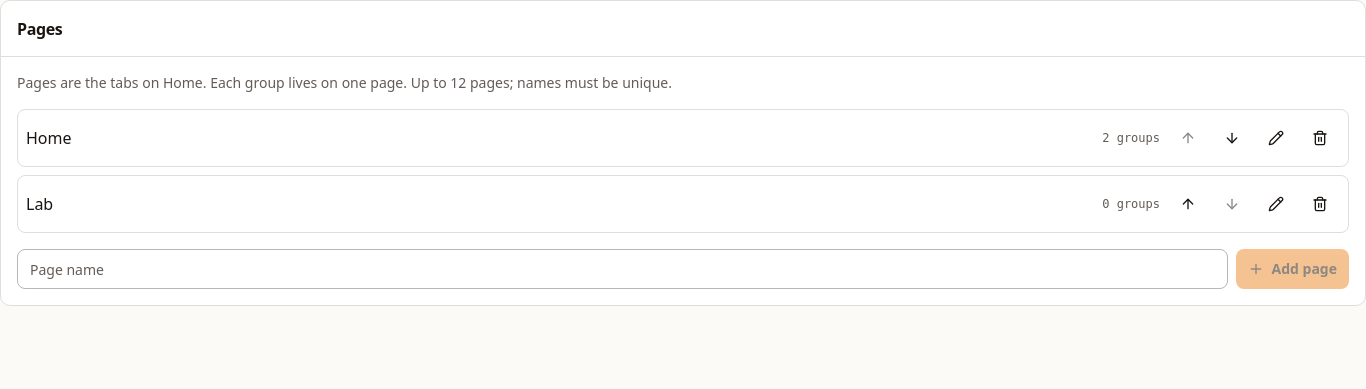
it: lists the pages and adds one
The width and height of the screenshot is (1366, 389).
Expected: the text "Lab" is shown, [26,193,53,215]
Type "Media" into the field with placeholder "Page name" at (622, 269), box [17,249,1228,289]
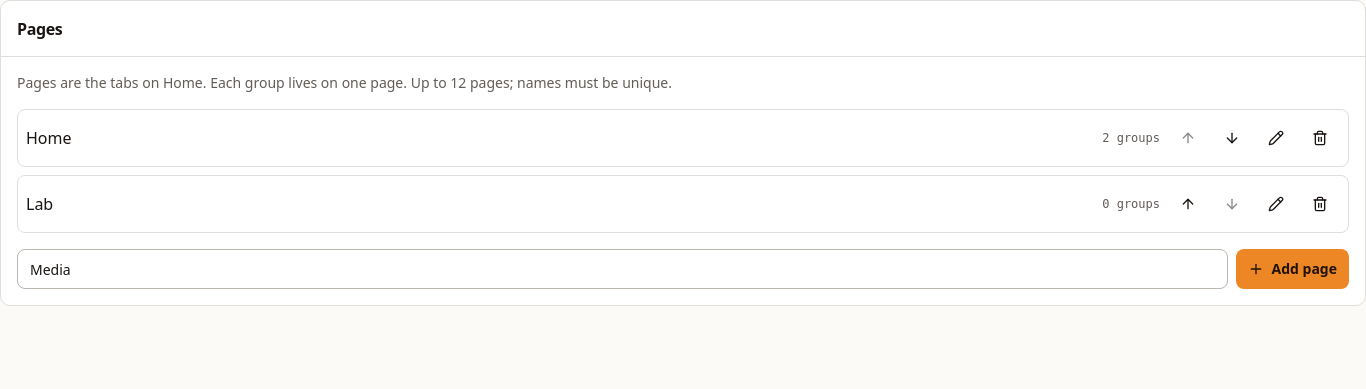
Click the button "Add page" at (1292, 269), box [1236,249,1349,289]
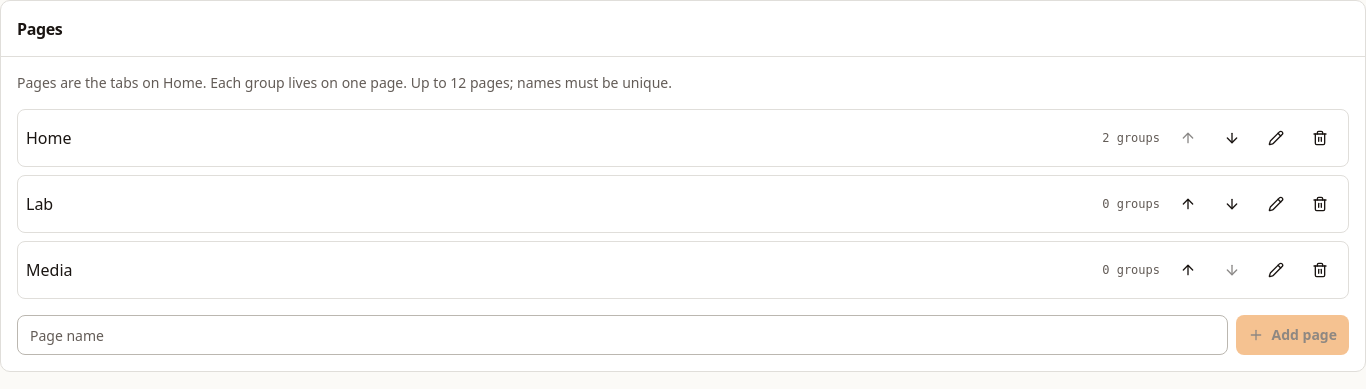
Expected: the text "Media" is shown, [26,259,72,281]
